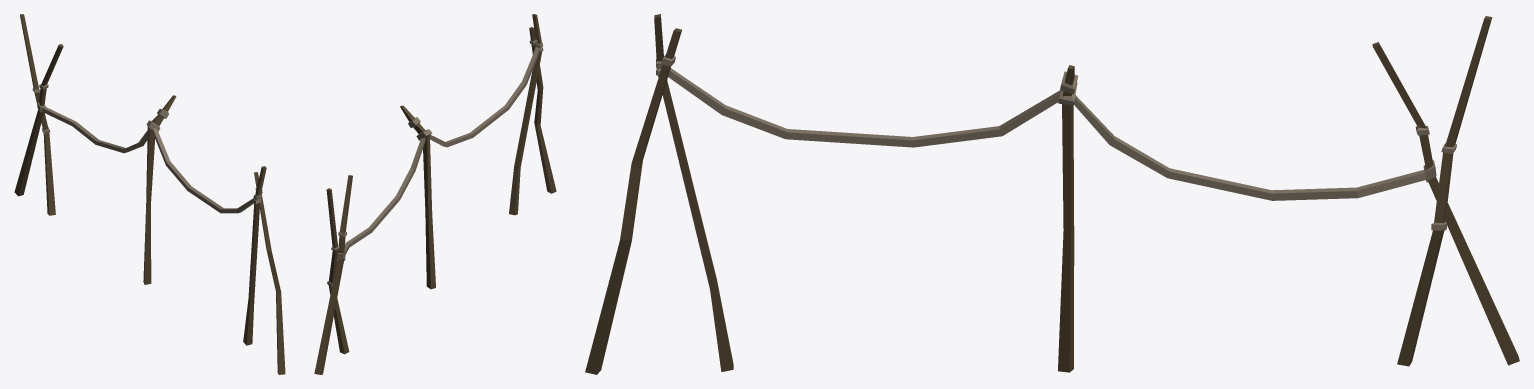
The model's file is SM_Prop_Rope_Fence_01.glb.
3 views of the same model, side by side, from view 1: azimuth 30°, elevation 25°; view 2: azimuth 150°, elevation 25°; view 3: azimuth 270°, elevation 25° (orthographic). The views are drawn at different scales.
Parts seen in each view (by area): view 1: SM_Prop_Rope_Fence_01; view 2: SM_Prop_Rope_Fence_01; view 3: SM_Prop_Rope_Fence_01.
Part boxes in pixels (bbox=[...]): SM_Prop_Rope_Fence_01: bbox=[14, 14, 285, 374]; SM_Prop_Rope_Fence_01: bbox=[314, 14, 556, 374]; SM_Prop_Rope_Fence_01: bbox=[585, 14, 1519, 374].
Size of the model in its own units: 0.00751 by 0.0329 by 0.0772.
